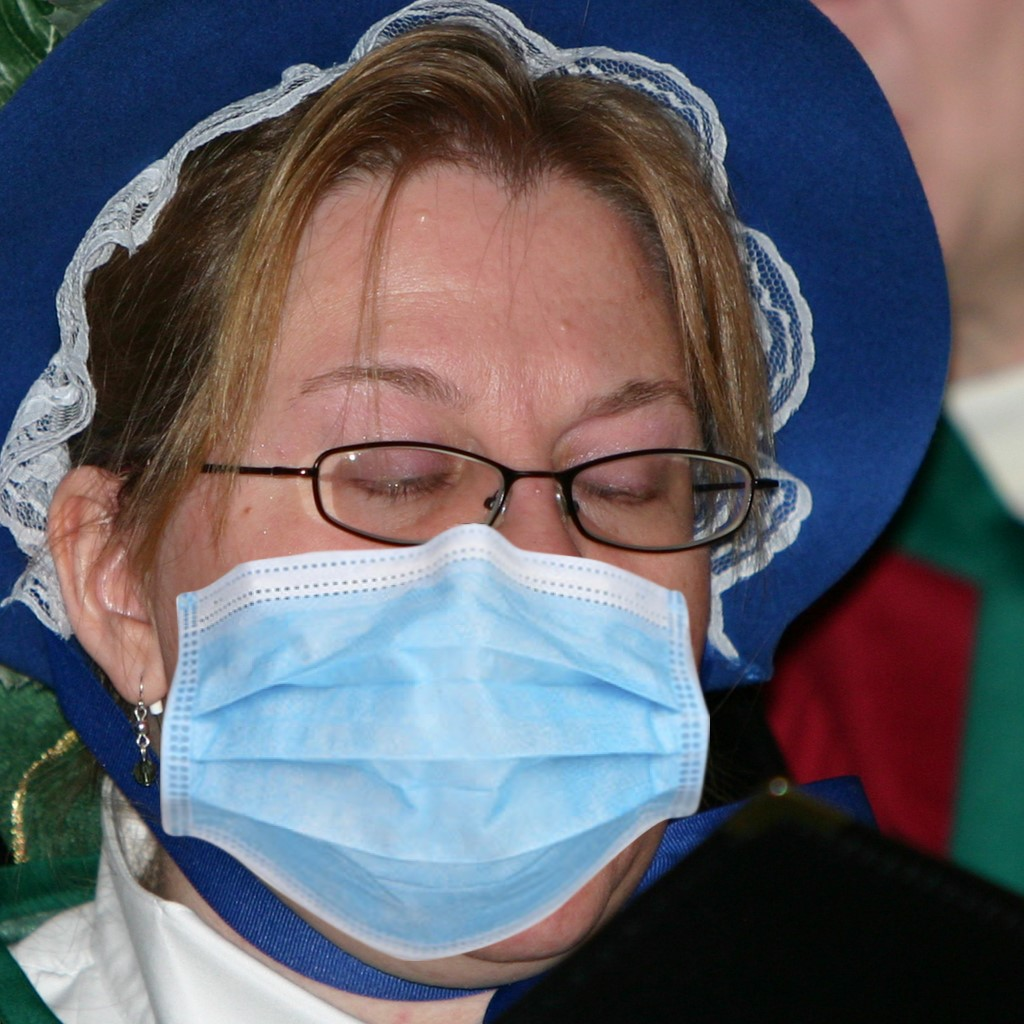con_mascara: (124, 137, 738, 981)
